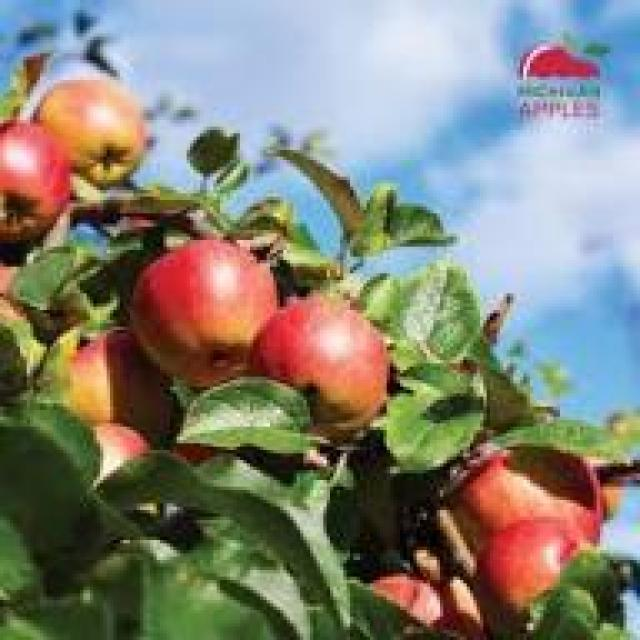apple: (120, 244, 277, 384), (253, 290, 387, 423), (440, 444, 597, 544), (453, 513, 590, 620), (33, 80, 147, 183), (54, 340, 164, 423), (57, 420, 150, 487)
